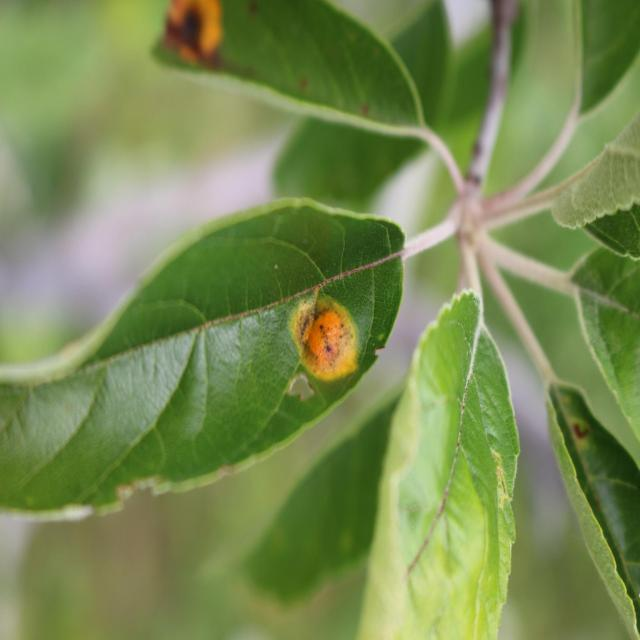Rust: (133, 0, 249, 98), (278, 276, 366, 390)
